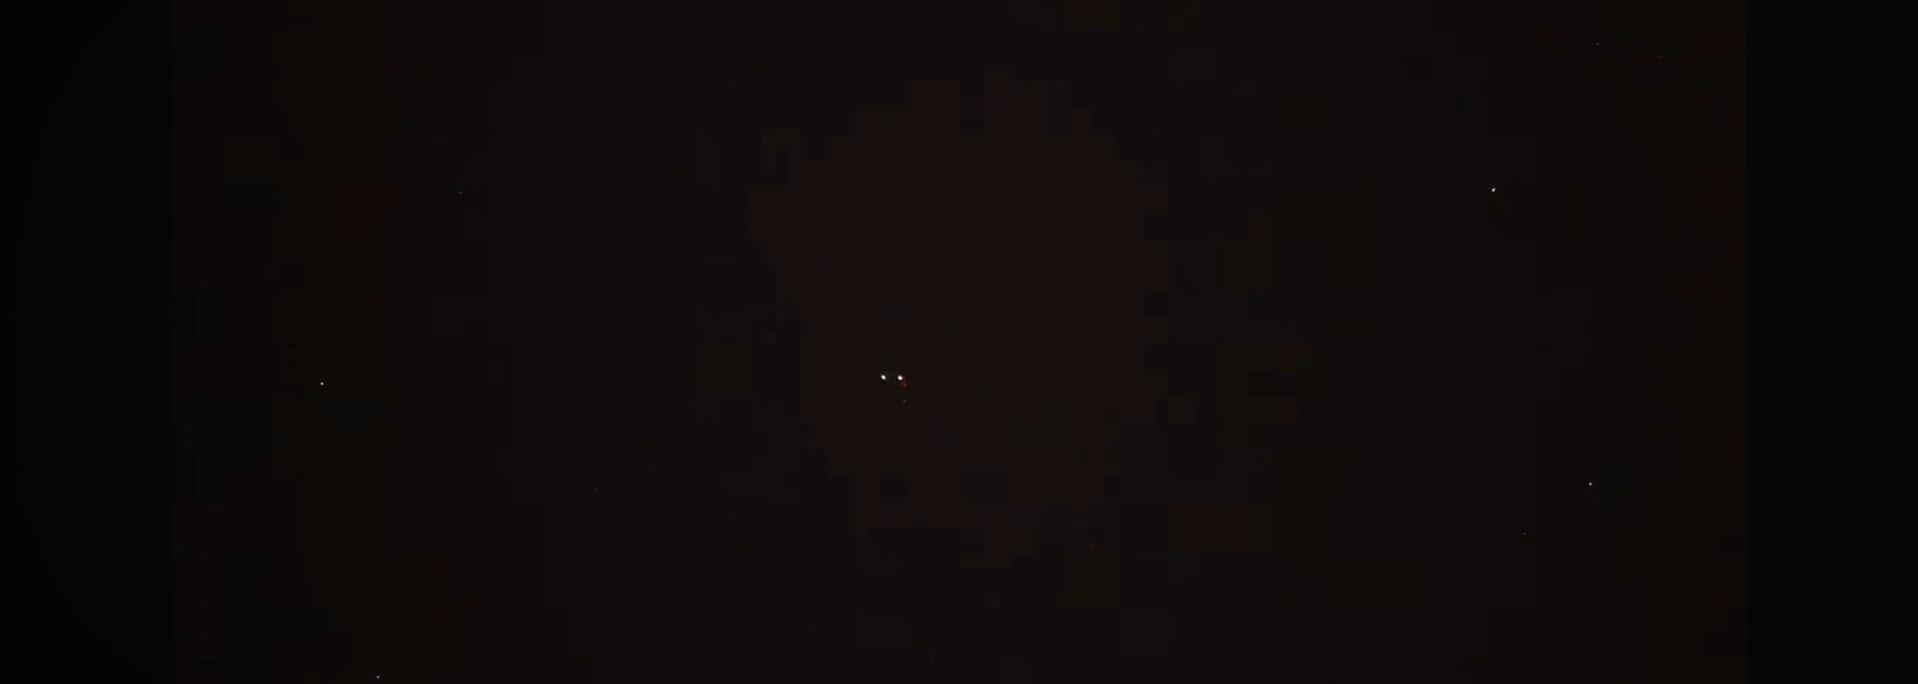Plane: (851, 362, 939, 407)
